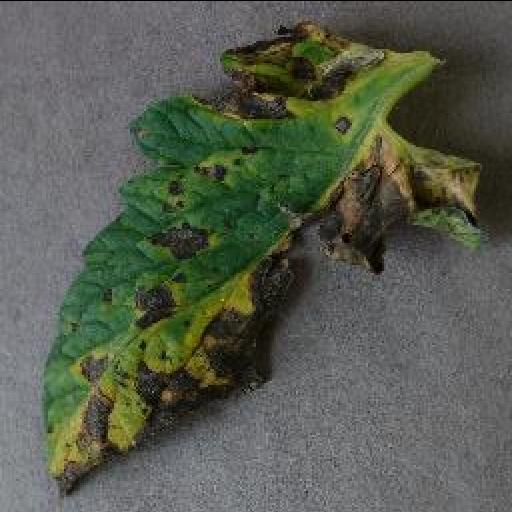disease_tomato: (38, 22, 484, 496)
